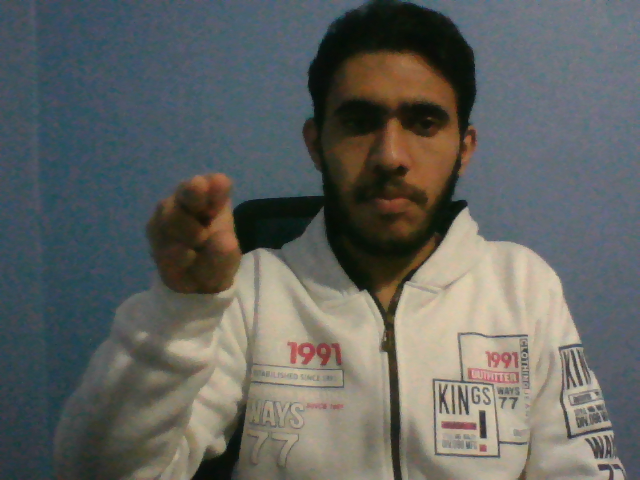no: (143, 167, 244, 306)
